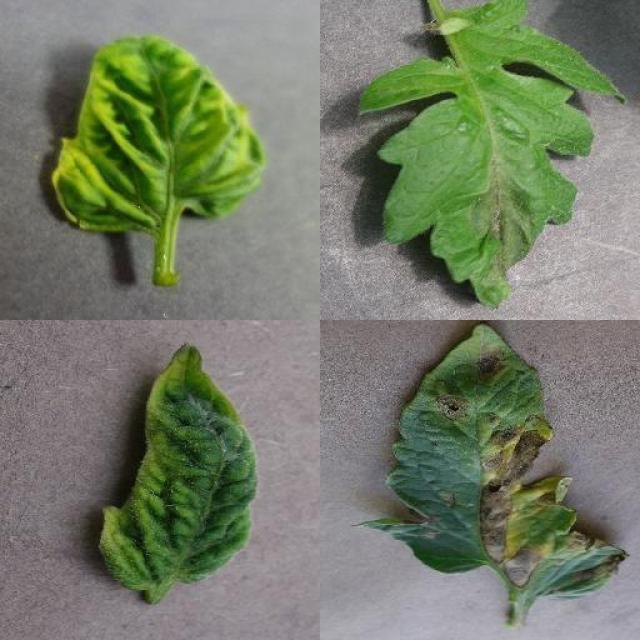Early Blight: (358, 322, 628, 600)
Late Blight: (356, 0, 624, 304)
